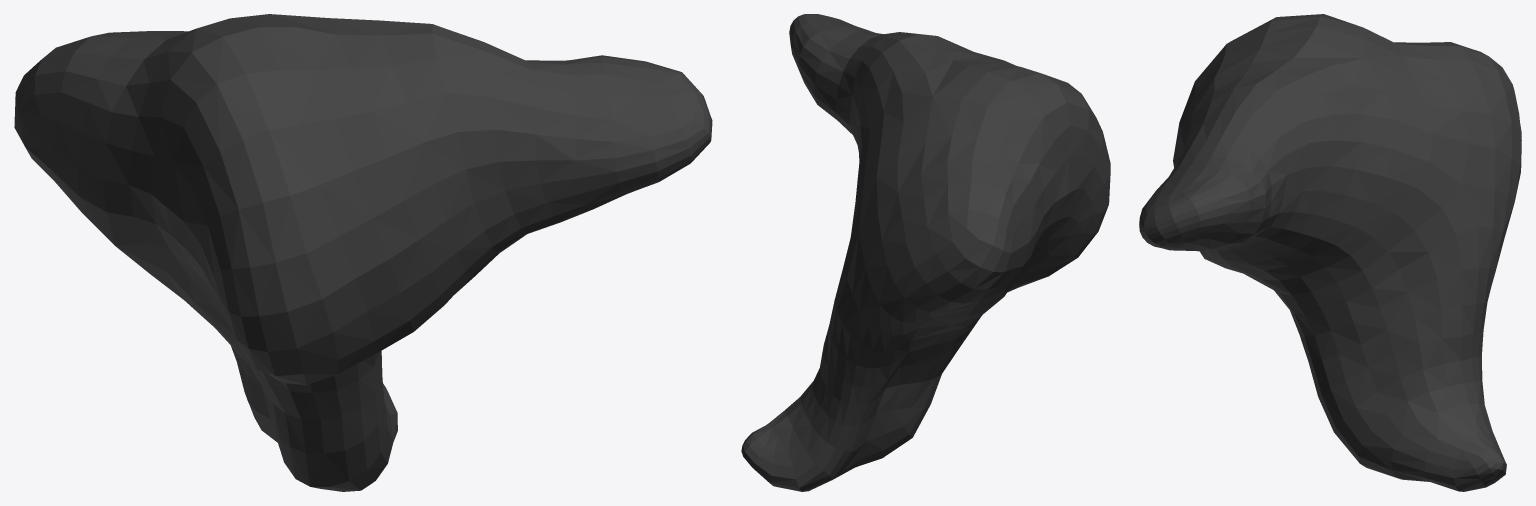
File: OSSICLE_Incus_L.glb
3 renders of one model, left to right at view 1: azimuth 30°, elevation 25°; view 2: azimuth 150°, elevation 25°; view 3: azimuth 270°, elevation 25°, orthographic. The views are drawn at different scales.
Parts seen in each view (by area): view 1: OSSICLE_Incus_L; view 2: OSSICLE_Incus_L; view 3: OSSICLE_Incus_L.
Part boxes in pixels (x1=…): OSSICLE_Incus_L: x1=14, y1=14, x2=712, y2=491; OSSICLE_Incus_L: x1=741, y1=14, x2=1110, y2=491; OSSICLE_Incus_L: x1=1139, y1=14, x2=1521, y2=491.
Size of the model in its own units: 0.9161 by 0.9579 by 0.8347.
Materials: 1 (1 with a texture image).
